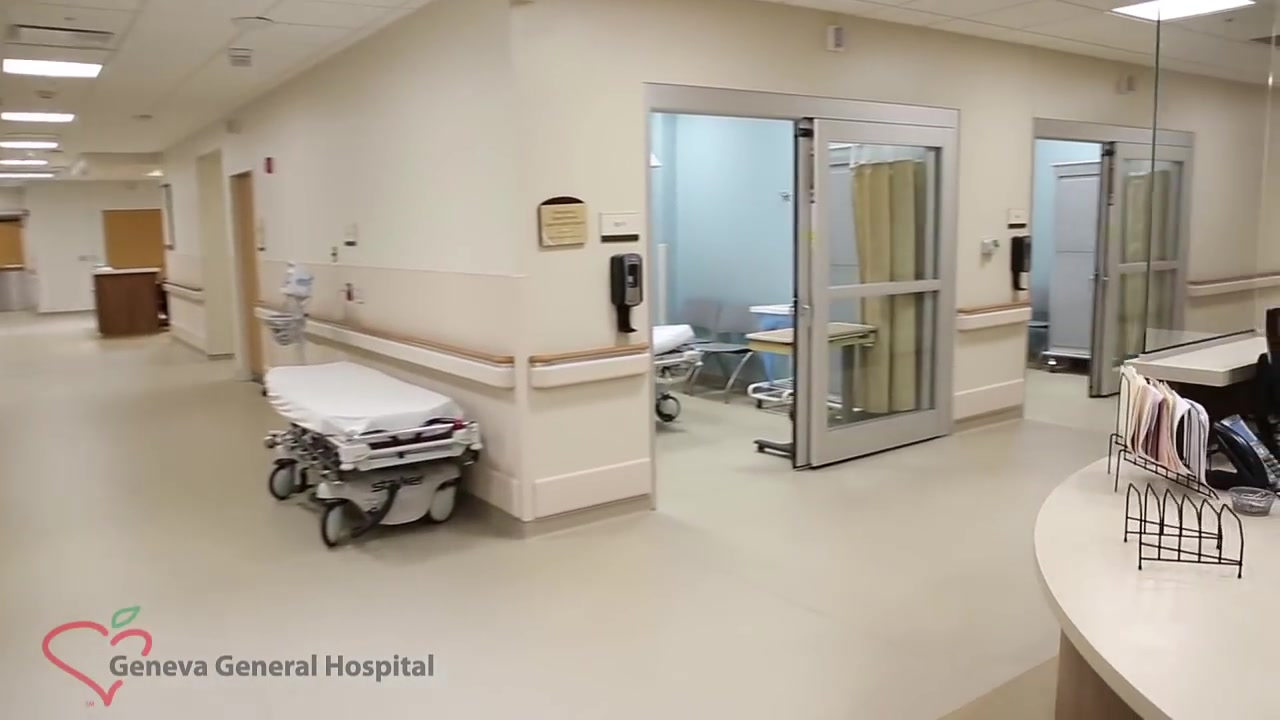chair: (694, 306, 765, 405), (661, 294, 724, 341)
computer: (1253, 306, 1280, 402)
counter: (93, 267, 164, 338)
countertop: (1034, 418, 1280, 720), (1121, 336, 1266, 388)
curtain: (846, 142, 944, 415), (1121, 170, 1179, 356)
dispenser: (611, 253, 643, 333), (1009, 234, 1034, 291)
hallway_assist_bar: (253, 300, 516, 389), (529, 352, 651, 392), (1187, 274, 1280, 300), (952, 308, 1042, 334), (170, 283, 211, 305)
hospital_bed: (259, 360, 481, 548), (649, 325, 703, 423)
table: (744, 321, 878, 457)
telephone: (1209, 409, 1280, 491)
